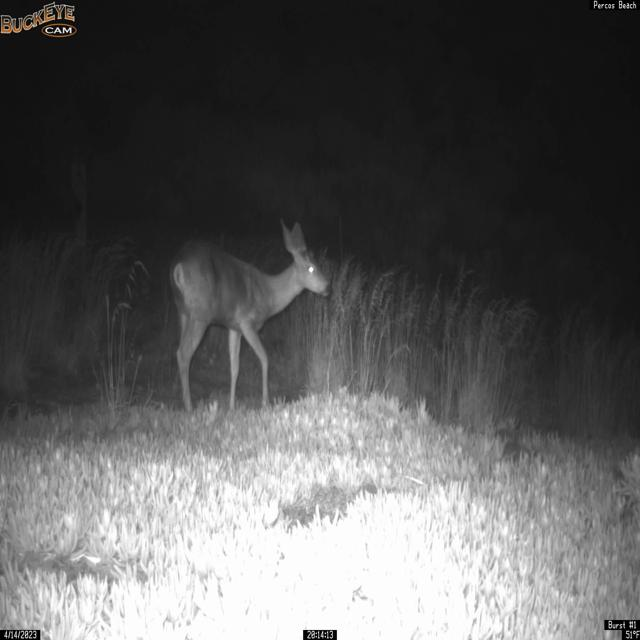deer: (168, 217, 333, 414)
